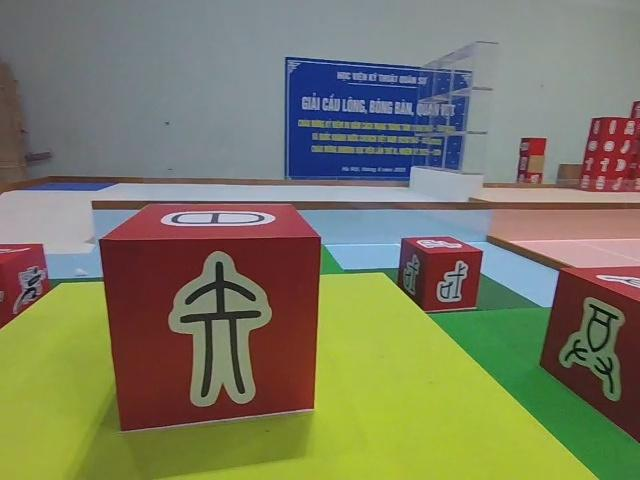R1: (0, 239, 53, 331)
R2 Fake: (97, 197, 324, 434)
R2 Real: (538, 261, 640, 447), (395, 233, 486, 312)
